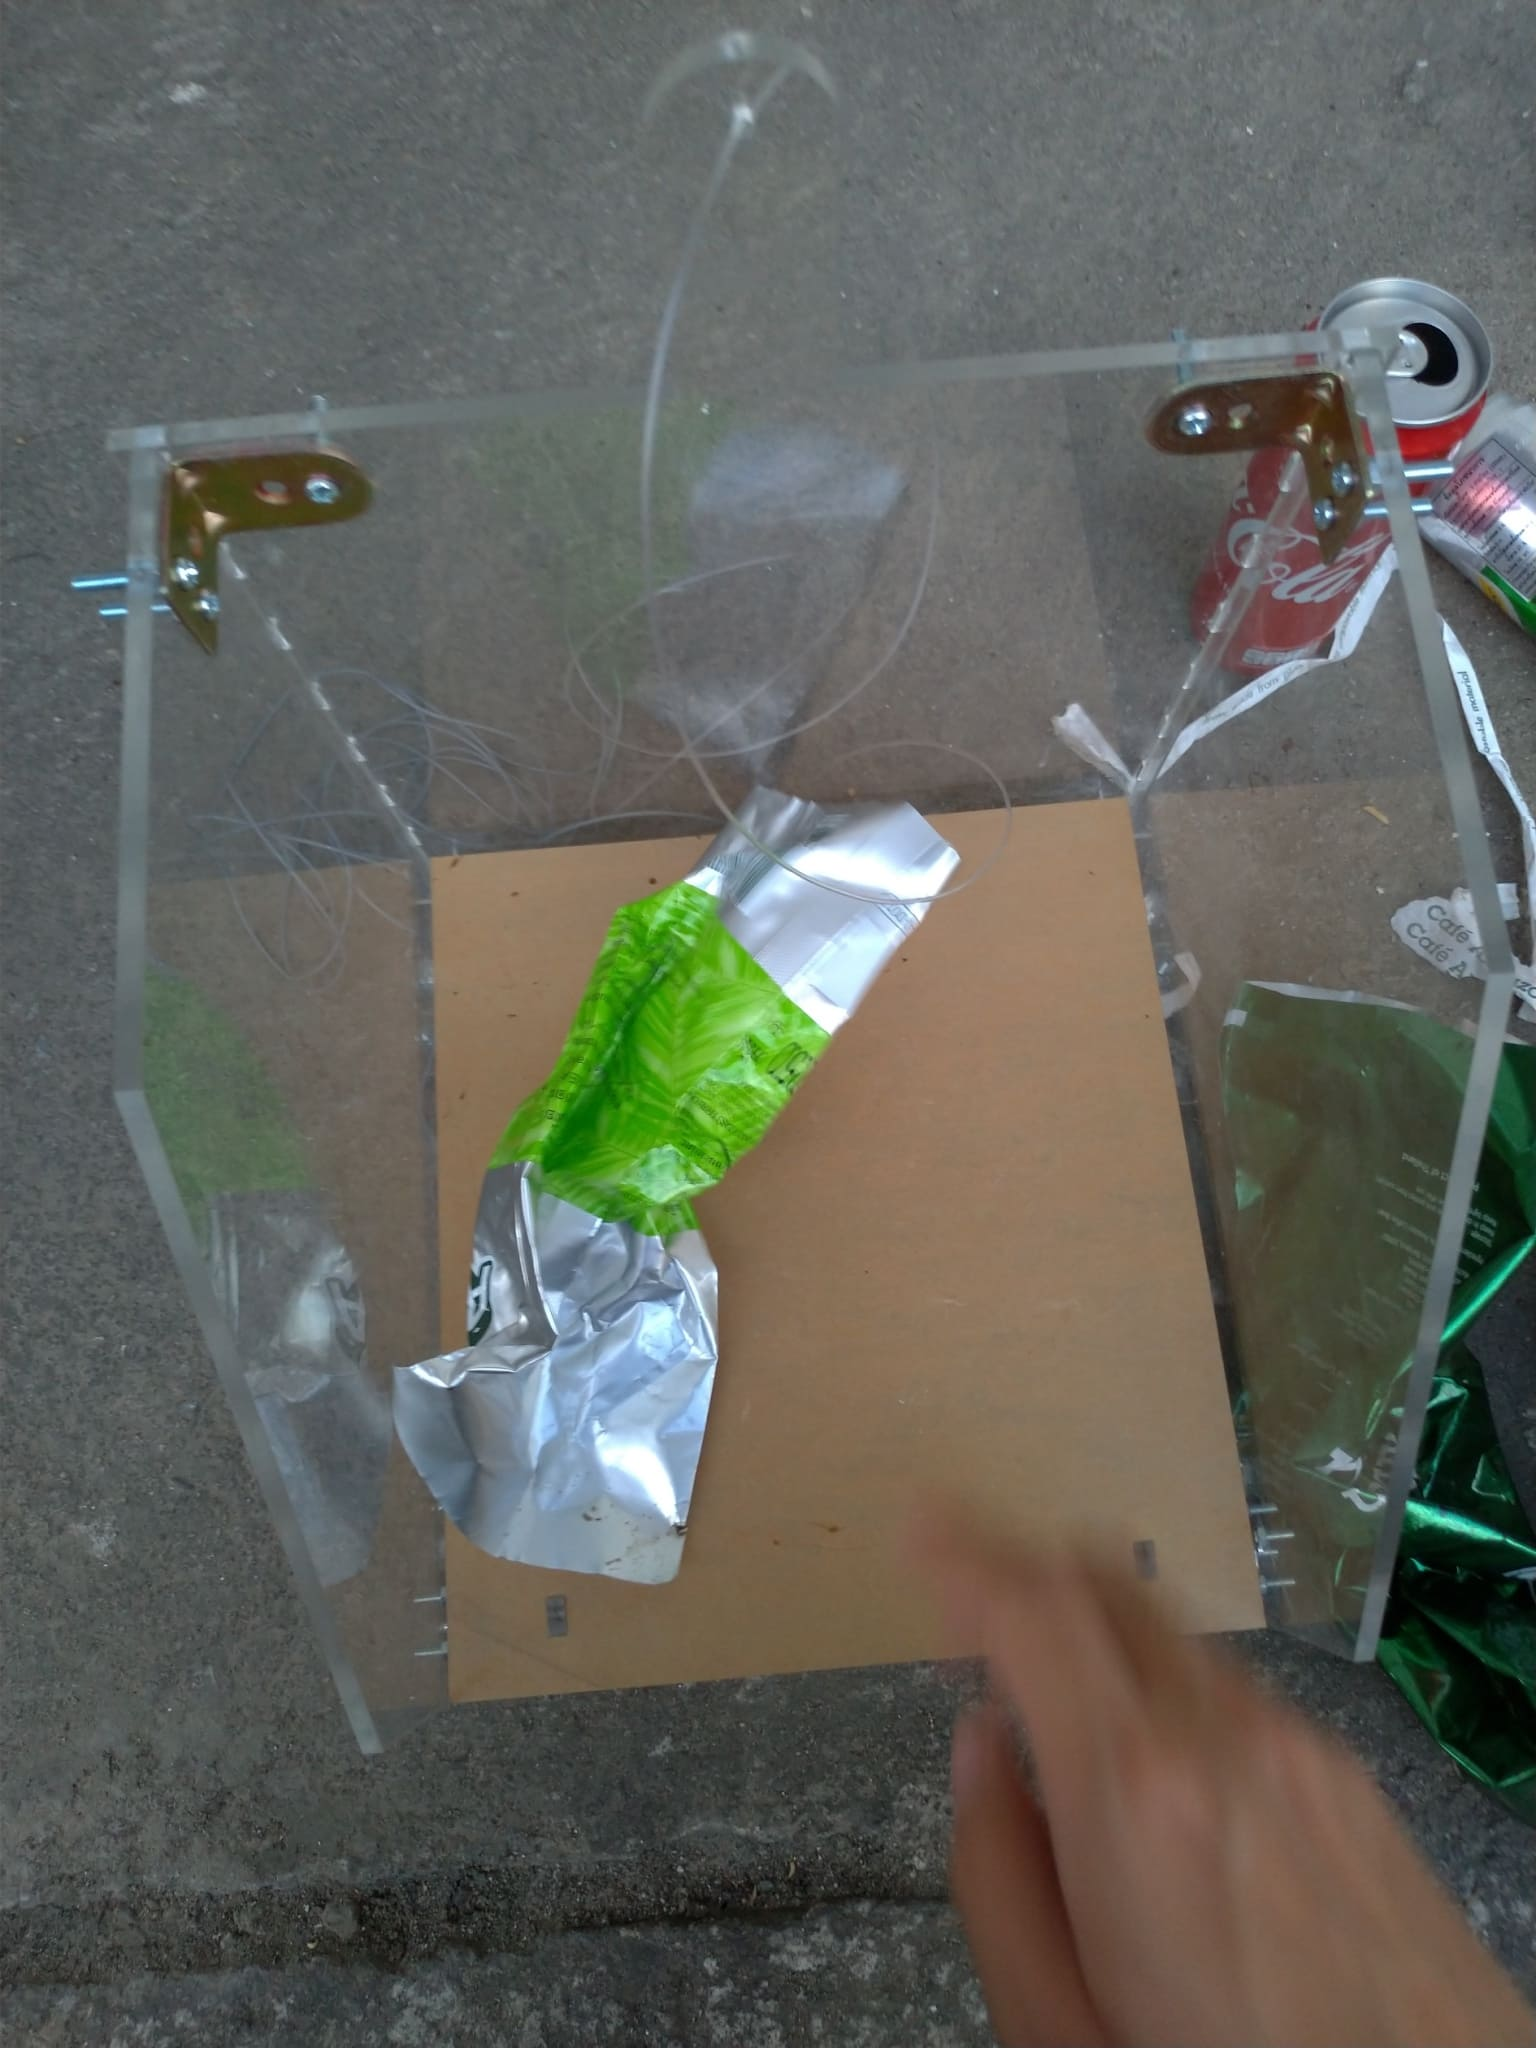AlCan: (1197, 273, 1494, 698)
Others: (387, 780, 971, 1584), (1207, 980, 1536, 1787), (1050, 548, 1400, 780), (1400, 589, 1536, 989)
